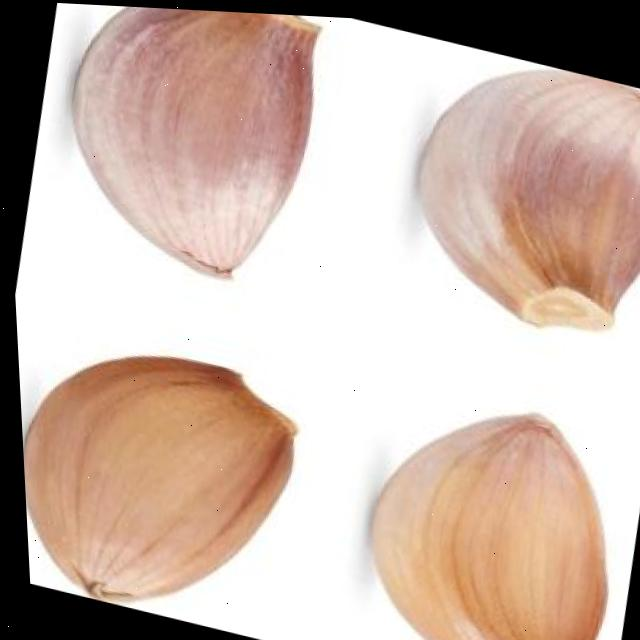Wet: (13, 315, 318, 640), (35, 1, 346, 317), (379, 30, 640, 354), (330, 369, 640, 640)
